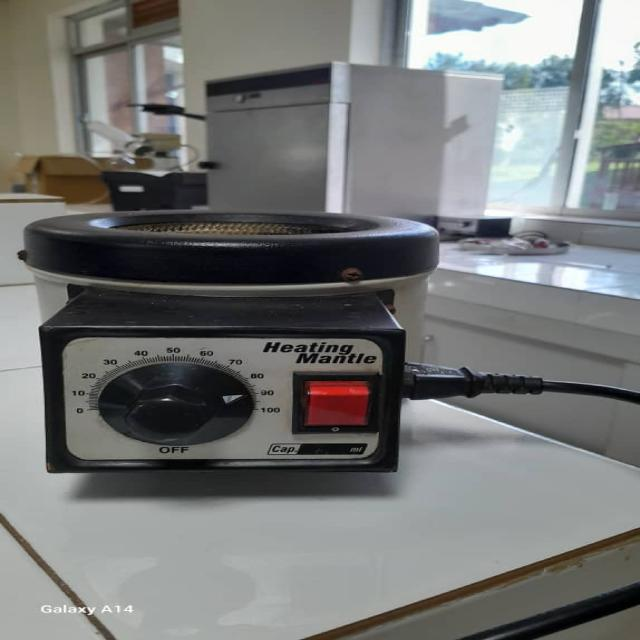Heating Source: (16, 207, 480, 482)
